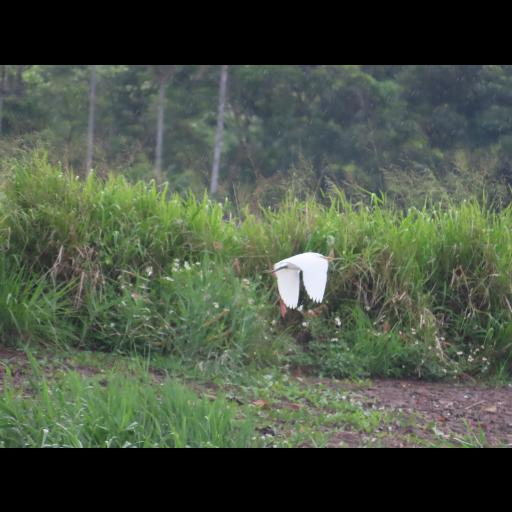chinese_egret: (261, 252, 335, 310)
